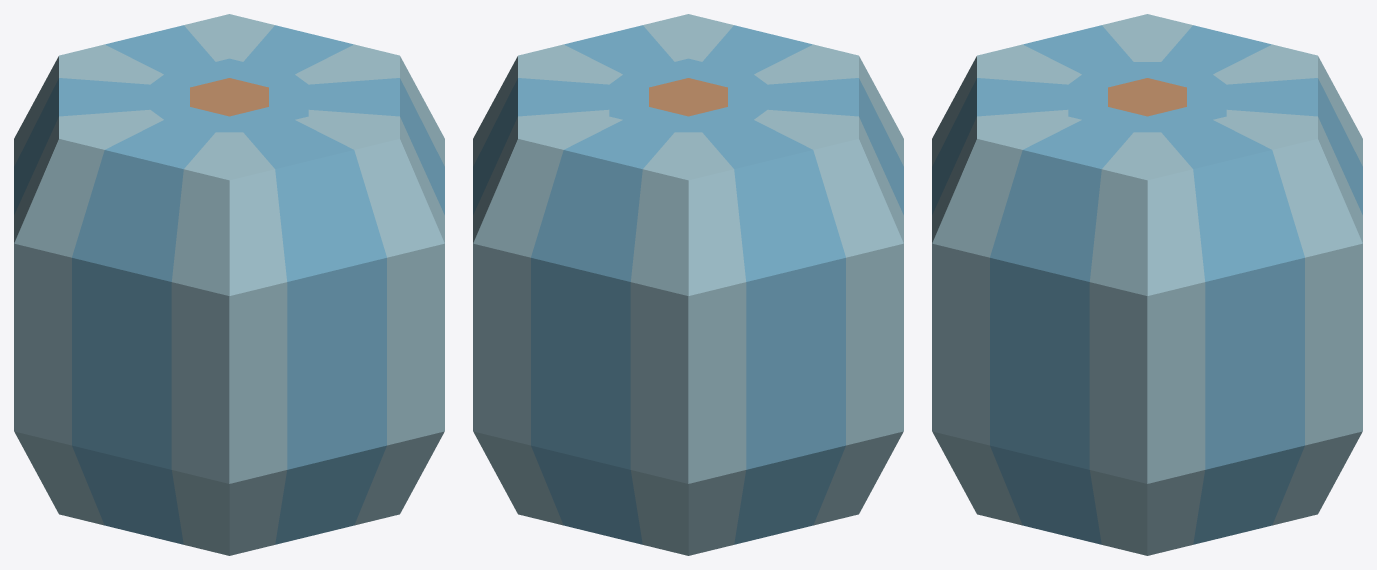
Rendered from cc0-crop-melon-lod1.glb.
3 views of the same model, side by side, from view 1: azimuth 30°, elevation 25°; view 2: azimuth 150°, elevation 25°; view 3: azimuth 270°, elevation 25° (orthographic).
Parts seen in each view (by area): view 1: part_0; view 2: part_0; view 3: part_0.
Part boxes in pixels (x1,y1,x2,y2): part_0: (14,14,444,555); part_0: (473,14,903,555); part_0: (932,14,1362,555).
Bounding box in the file's own units: 0.4176 × 0.348 × 0.3617.
